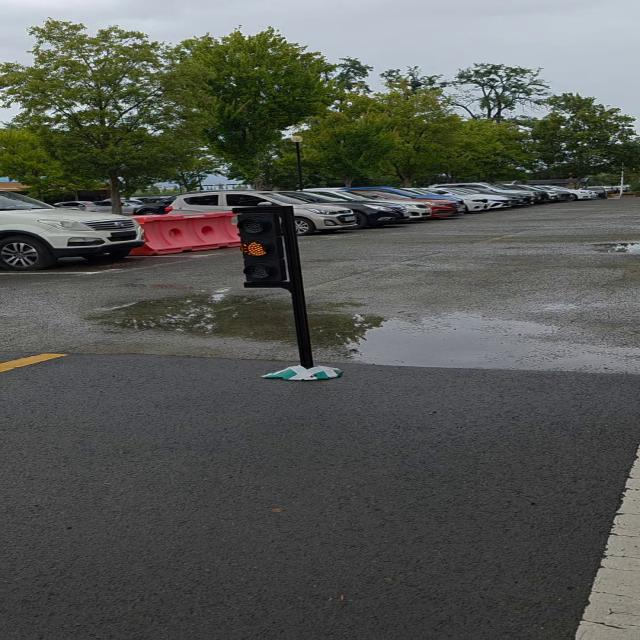yellow: (230, 206, 302, 286)
